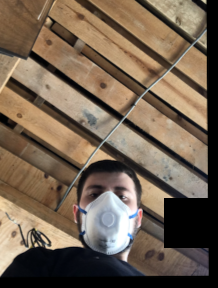with_mask: (77, 178, 136, 255)
